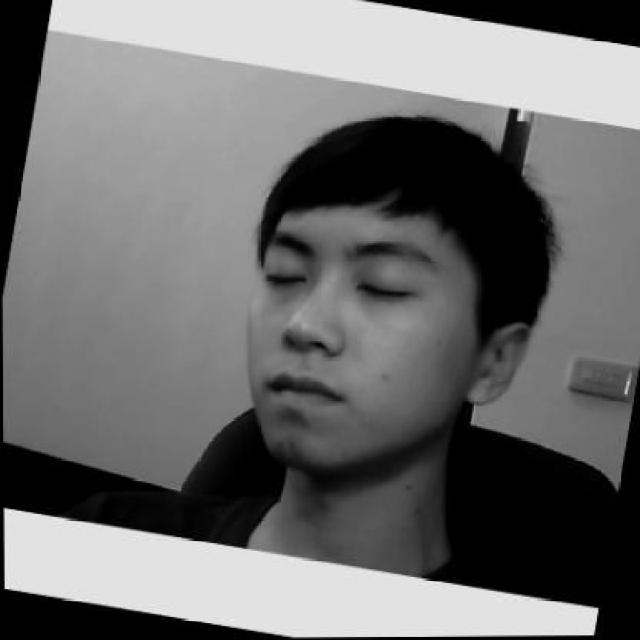inattentif: (216, 88, 564, 518)
